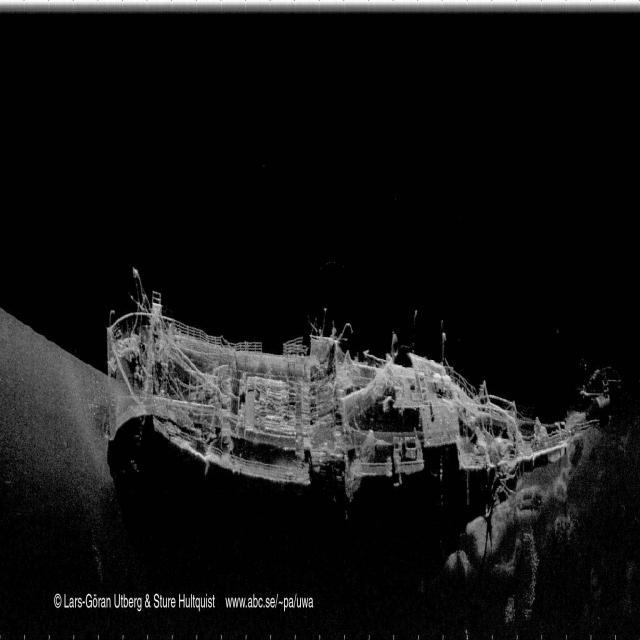shipwreck: (106, 277, 616, 602)
